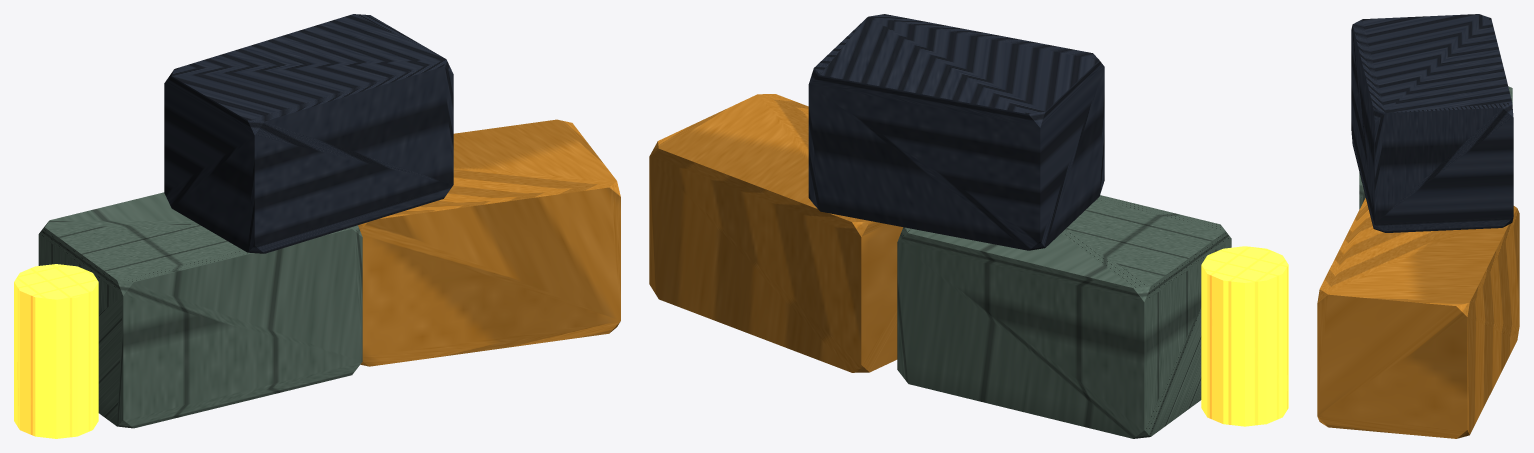
Rendered from hangar_cargo_containers.glb.
3 renders of one model, left to right at view 1: azimuth 30°, elevation 25°; view 2: azimuth 150°, elevation 25°; view 3: azimuth 270°, elevation 25°, orthographic. The views are drawn at different scales.
Visible parts, largest first — view 1: hangar_cargo_containers; view 2: hangar_cargo_containers; view 3: hangar_cargo_containers.
Part boxes in pixels (left/top/right/bottom): hangar_cargo_containers: left=14, top=14, right=620, bottom=438; hangar_cargo_containers: left=649, top=14, right=1288, bottom=438; hangar_cargo_containers: left=1317, top=14, right=1519, bottom=438.
Bounding box in the file's own units: 8.74 × 4 × 2.9.
Materials: 1 (1 with a texture image).
